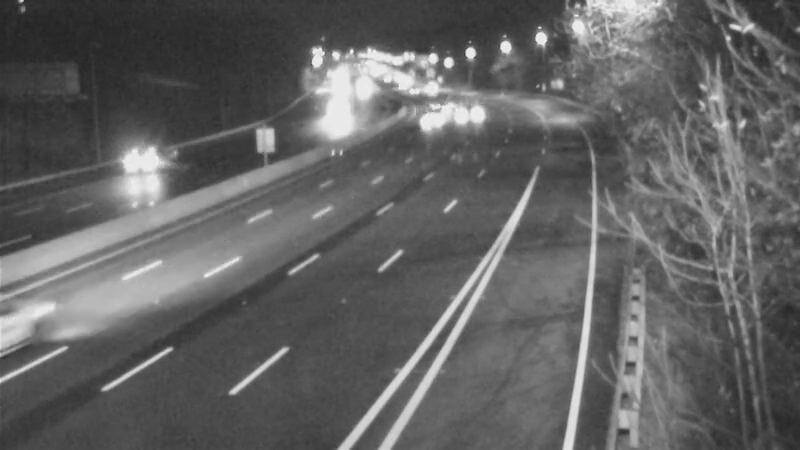vehicle: (109, 117, 189, 197), (424, 80, 474, 130), (451, 89, 501, 139), (409, 96, 459, 146), (312, 87, 362, 137)
